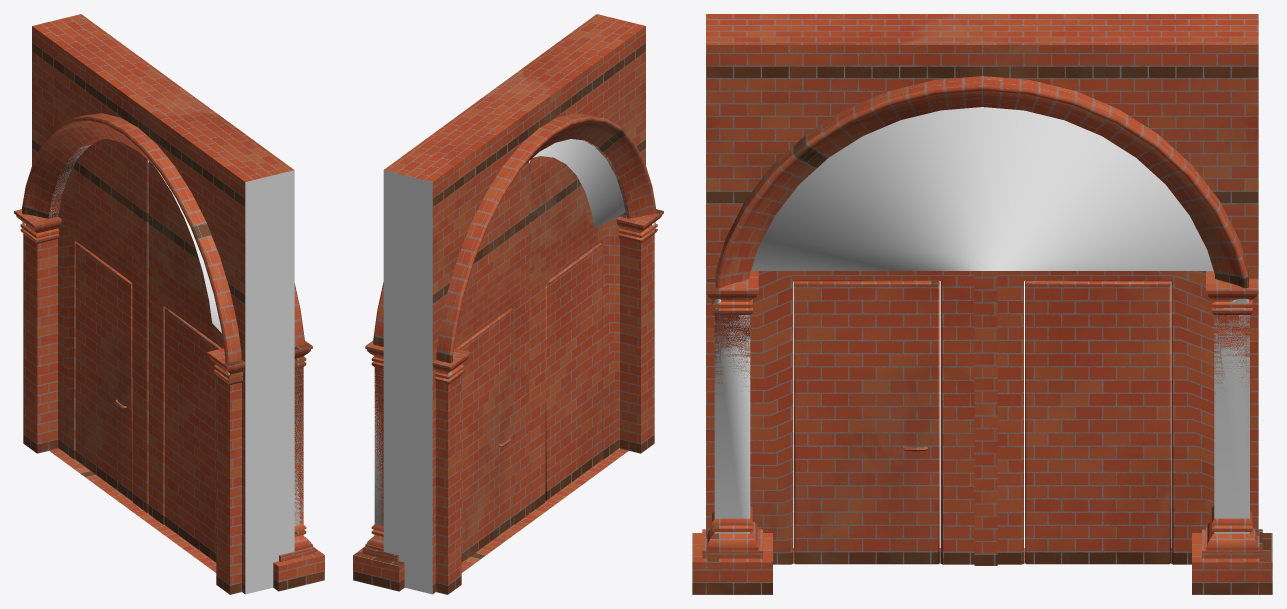
The model's file is M_big_doors_comp.fbx.
3 renders of one model, left to right at view 1: azimuth 30°, elevation 25°; view 2: azimuth 150°, elevation 25°; view 3: azimuth 270°, elevation 25°, orthographic. The views are drawn at different scales.
Visible parts, largest first — view 1: MedievalDoor, MedievalDoor_coll, M_BigDoor_L_B, M_LittleDoor_L, M_LittleDoor_R, M_BigDoor_R_B; view 2: MedievalDoor, MedievalDoor_coll, M_BigDoor_R_B, M_LittleDoor_R, M_LittleDoor_L, M_BigDoor_L_B; view 3: MedievalDoor, MedievalDoor_coll, M_LittleDoor_R, M_LittleDoor_L, M_BigDoor_L_B, M_BigDoor_R_B.
Boxes of the visible parts, x1=… form: MedievalDoor: x1=14, y1=14, x2=324, y2=594; MedievalDoor_coll: x1=22, y1=144, x2=304, y2=594; M_BigDoor_L_B: x1=58, y1=139, x2=148, y2=512; M_LittleDoor_L: x1=75, y1=242, x2=132, y2=500; M_LittleDoor_R: x1=165, y1=308, x2=221, y2=562; M_BigDoor_R_B: x1=149, y1=161, x2=223, y2=524; MedievalDoor: x1=353, y1=14, x2=663, y2=594; MedievalDoor_coll: x1=374, y1=139, x2=655, y2=594; M_BigDoor_R_B: x1=529, y1=156, x2=619, y2=512; M_LittleDoor_R: x1=545, y1=242, x2=602, y2=500; M_LittleDoor_L: x1=457, y1=308, x2=513, y2=562; M_BigDoor_L_B: x1=454, y1=161, x2=528, y2=524; MedievalDoor: x1=692, y1=14, x2=1272, y2=594; MedievalDoor_coll: x1=714, y1=107, x2=1249, y2=533; M_LittleDoor_R: x1=794, y1=281, x2=939, y2=564; M_LittleDoor_L: x1=1025, y1=281, x2=1170, y2=564; M_BigDoor_L_B: x1=974, y1=271, x2=1214, y2=565; M_BigDoor_R_B: x1=750, y1=271, x2=974, y2=564.
Bounding box in the file's own units: 74.82 × 320 × 315.
